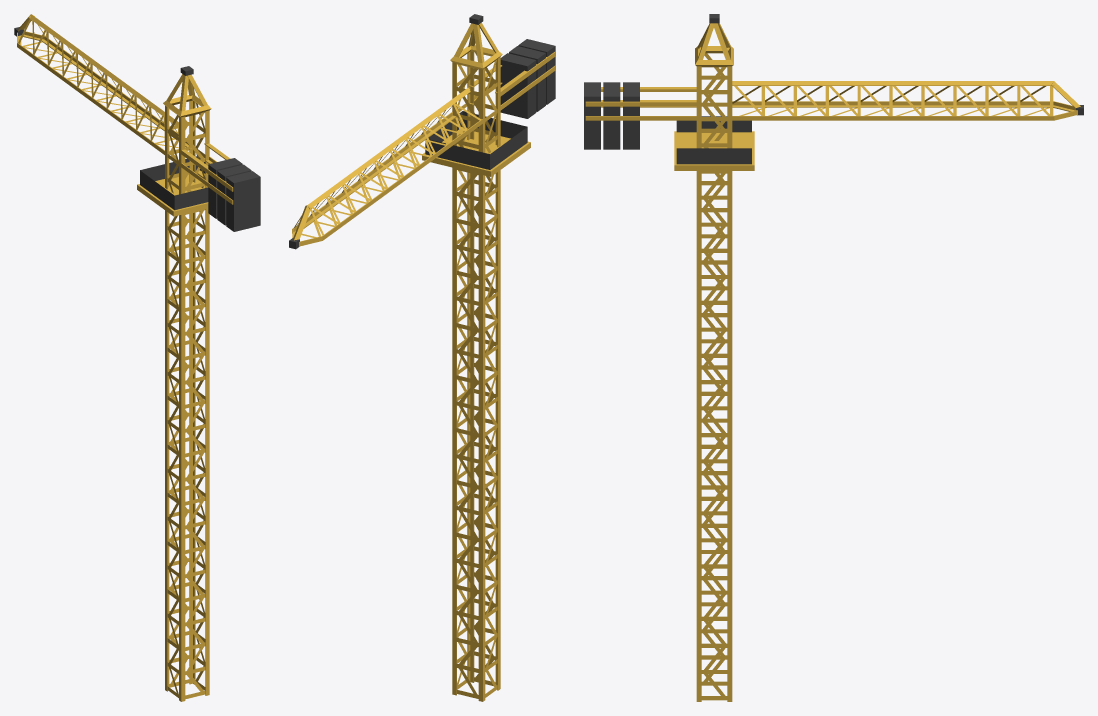
File: crane.fbx
3 views of the same model, side by side, from view 1: azimuth 30°, elevation 25°; view 2: azimuth 150°, elevation 25°; view 3: azimuth 270°, elevation 25° (orthographic). The views are drawn at different scales.
Parts seen in each view (by area): view 1: Plane.007; view 2: Plane.007; view 3: Plane.007.
Part boxes in pixels (box(x1,y1,x2,y2)): Plane.007: box(14, 14, 260, 701); Plane.007: box(289, 14, 555, 701); Plane.007: box(584, 14, 1083, 701).
Size of the model in its own units: 1394 by 12999 by 8684.
